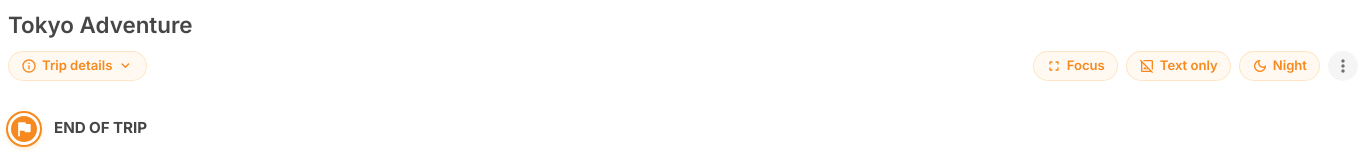
Test: TripDetail — Planning render › expands the collapsible "Trip details" overview and saves basic info
Click the button "Trip details": click(78, 66) [8, 51, 147, 81]
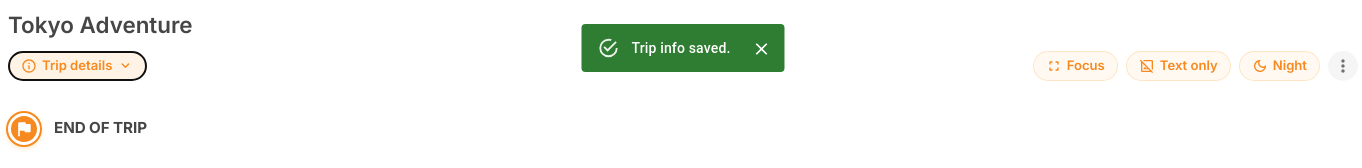
Result: the text "Trip info saved." is shown at [632, 40, 730, 56]
